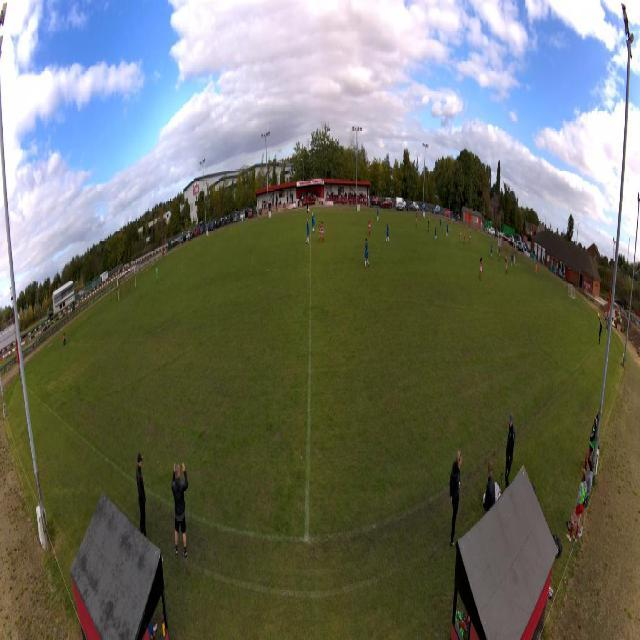player: (364, 238, 369, 269), (317, 220, 322, 244), (306, 218, 310, 245), (385, 223, 390, 244), (479, 257, 483, 282), (321, 220, 325, 244), (311, 211, 315, 233), (434, 223, 438, 242), (156, 265, 160, 284), (458, 227, 462, 244), (534, 261, 538, 277), (368, 217, 371, 237), (463, 228, 466, 246), (505, 256, 508, 274), (469, 230, 472, 247), (490, 242, 493, 259), (377, 206, 380, 222), (446, 222, 449, 238), (511, 252, 514, 268), (498, 247, 501, 263), (428, 217, 430, 234), (416, 213, 418, 229), (440, 217, 442, 231)
